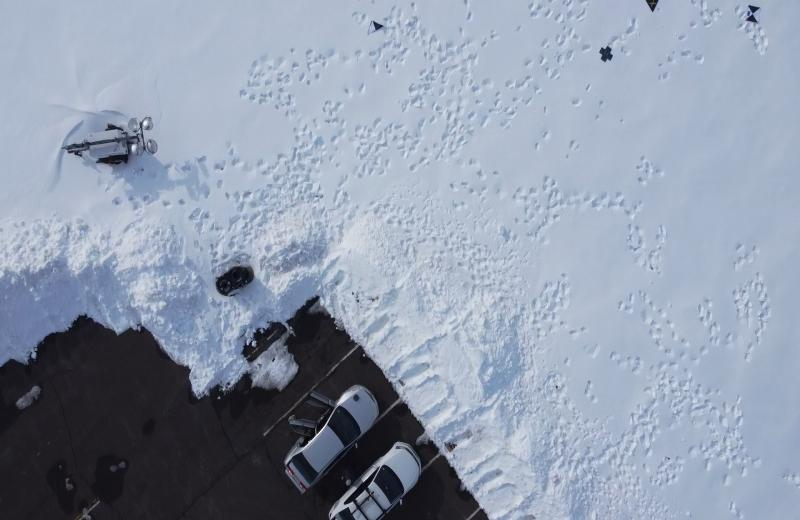Cross: (597, 44, 616, 63)
Triangle: (644, 0, 660, 13)
